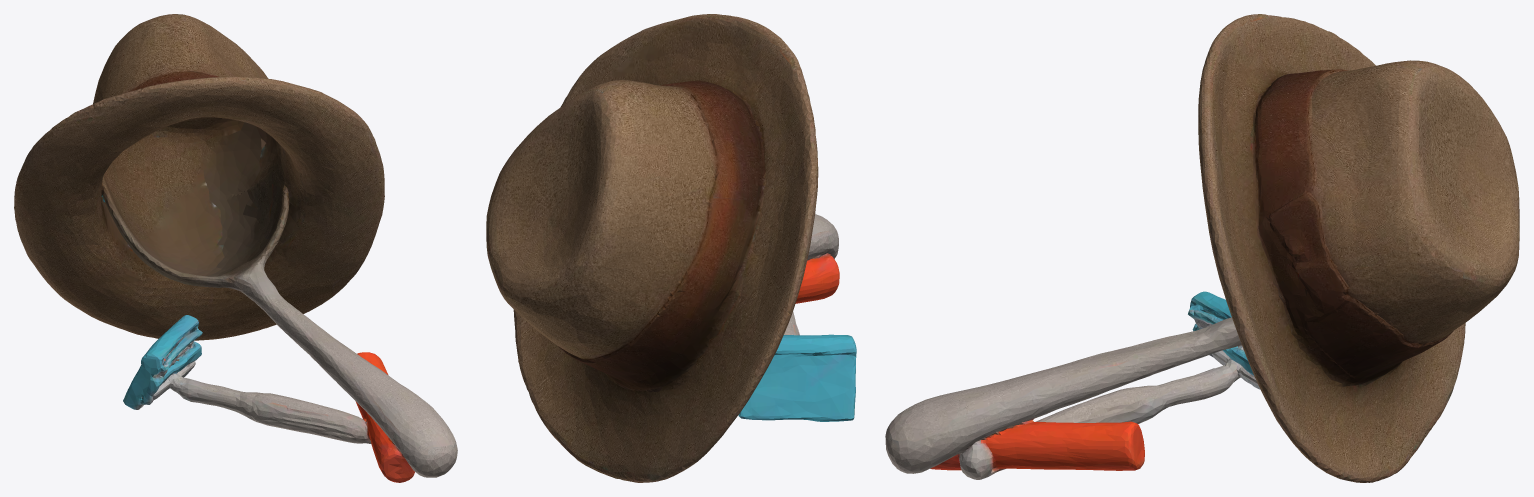
The model's file is chest (239).glb.
3 views of the same model, side by side, from view 1: azimuth 30°, elevation 25°; view 2: azimuth 150°, elevation 25°; view 3: azimuth 270°, elevation 25° (orthographic). The views are drawn at different scales.
Parts seen in each view (by area): view 1: Hy21_Mesh.obj; view 2: Hy21_Mesh.obj; view 3: Hy21_Mesh.obj.
Part boxes in pixels (bbox=[...]): Hy21_Mesh.obj: bbox=[14, 14, 457, 482]; Hy21_Mesh.obj: bbox=[486, 14, 856, 482]; Hy21_Mesh.obj: bbox=[885, 14, 1519, 482].
Size of the model in its own units: 1.27 by 1.35 by 1.96.
Materials: 1 (1 with a texture image).
